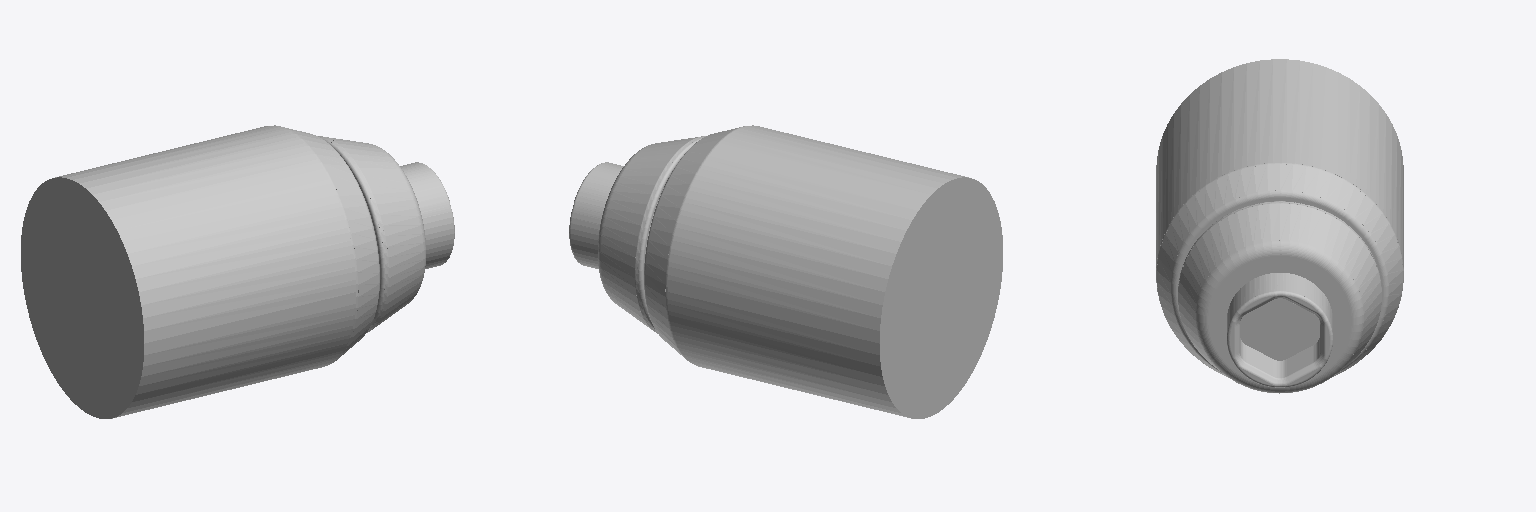
The model's file is chuck.obj.
3 renders of one model, left to right at view 1: azimuth 30°, elevation 25°; view 2: azimuth 150°, elevation 25°; view 3: azimuth 270°, elevation 25°, orthographic.
Parts seen in each view (by area): view 1: chuck_obj21; view 2: chuck_obj21; view 3: chuck_obj21.
Part boxes in pixels (x1,y1,x2,y2): chuck_obj21: (21,125,454,418); chuck_obj21: (569,125,1002,418); chuck_obj21: (1156,59,1403,393).
Size of the model in its own units: 0.0611 by 0.0378 by 0.0378.